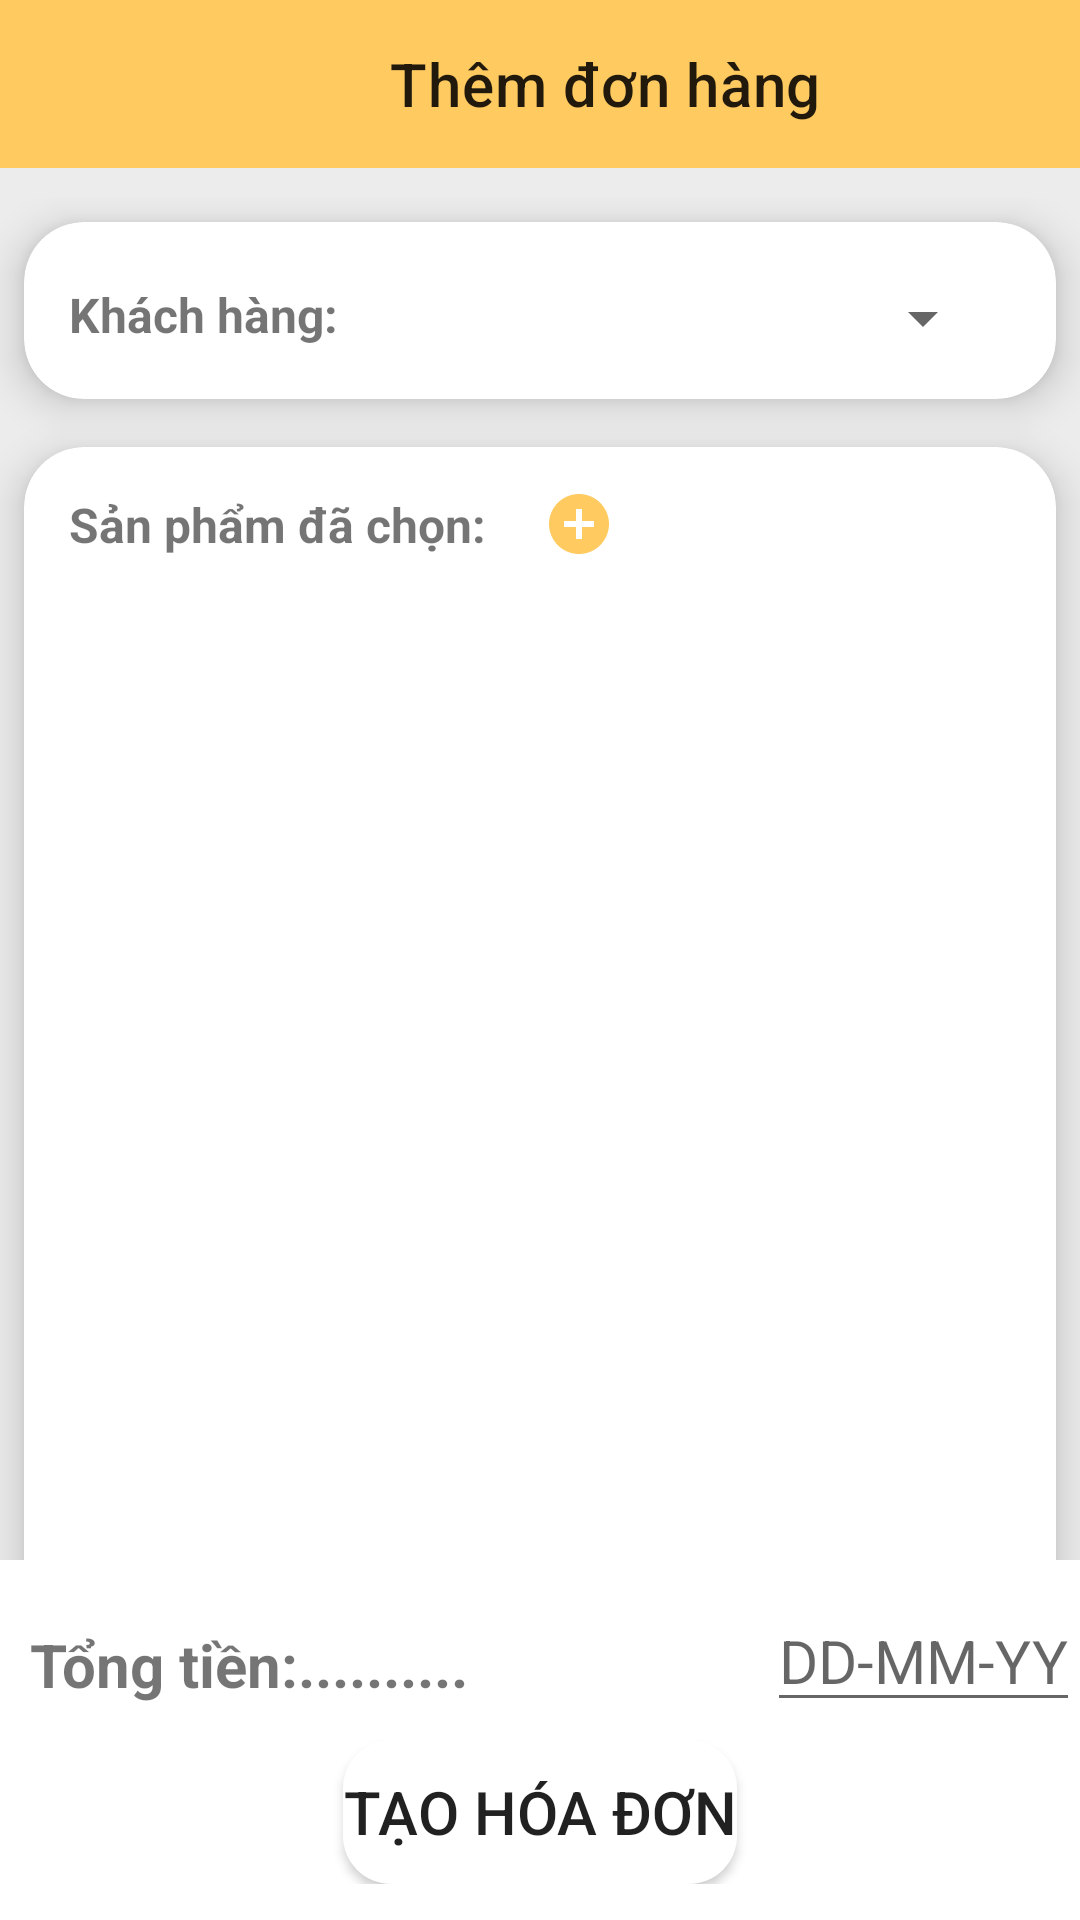

Where icons sit on this 1080×1920 app screen, as (x1, y1, x2, y2):
add circle: (549, 494, 609, 554)
